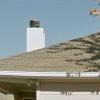Chimney: (20, 12, 54, 58)
